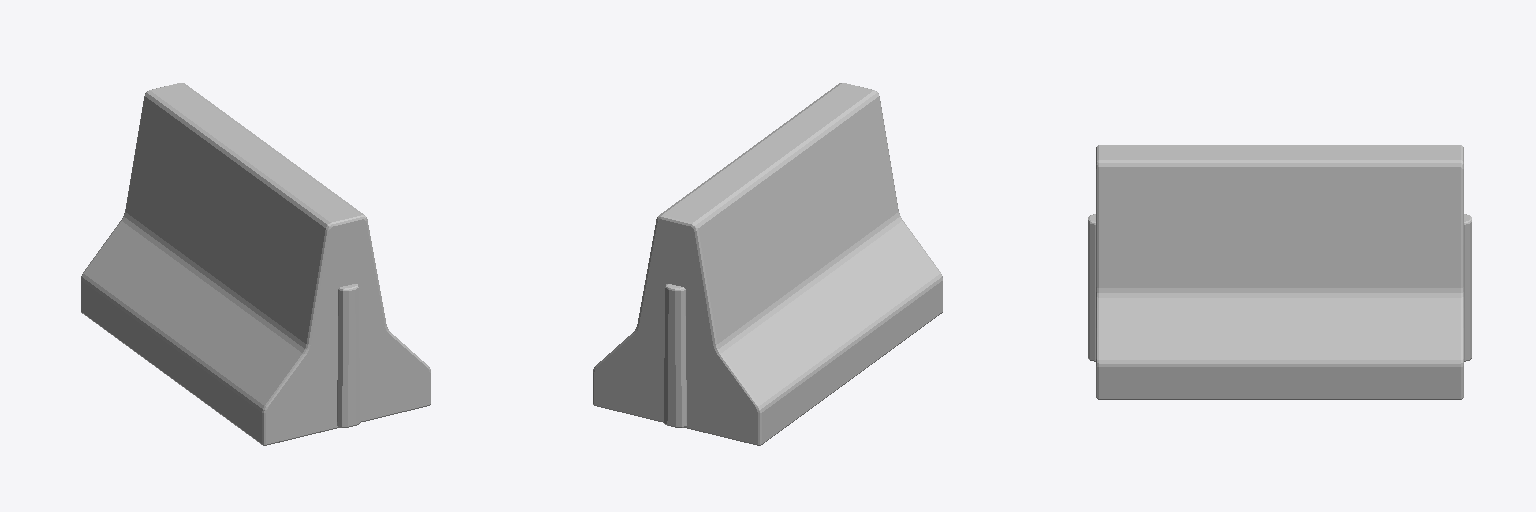
The model's file is barriers.obj.
The picture shows the model from 3 angles: view 1: azimuth 30°, elevation 25°; view 2: azimuth 150°, elevation 25°; view 3: azimuth 270°, elevation 25°; orthographic projection.
Parts seen in each view (by area): view 1: Cube.001; view 2: Cube.001; view 3: Cube.001.
Boxes of the visible parts, x1=… form: Cube.001: x1=81, y1=83, x2=430, y2=445; Cube.001: x1=593, y1=83, x2=942, y2=445; Cube.001: x1=1088, y1=145, x2=1471, y2=399.
Size of the model in its own units: 1.27 by 1.49 by 2.51.